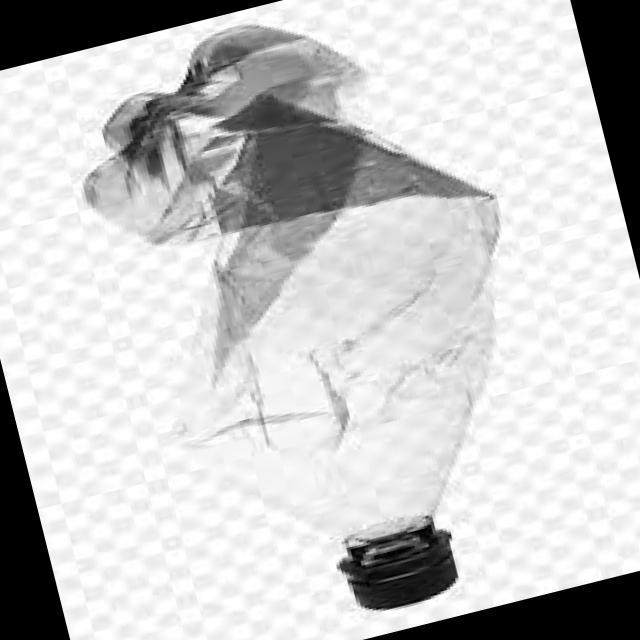defected: (38, 0, 590, 640)
